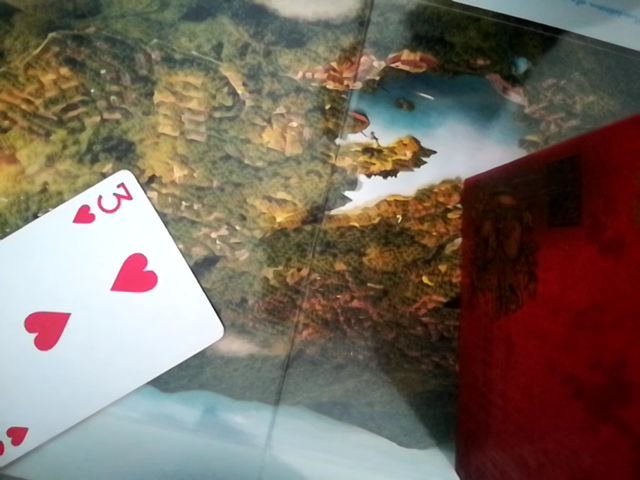hx 3: (0, 161, 223, 468)
